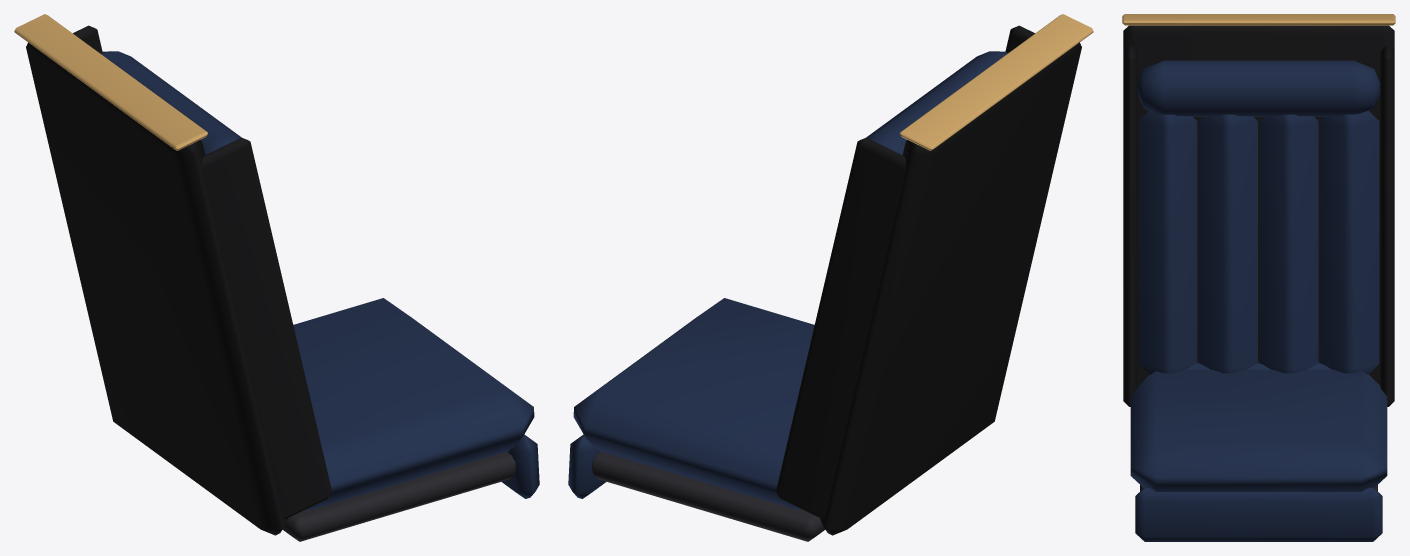
File: seat_giant.glb
The picture shows the model from 3 angles, left to right: view 1: azimuth 30°, elevation 25°; view 2: azimuth 150°, elevation 25°; view 3: azimuth 270°, elevation 25°; orthographic projection. The views are drawn at different scales.
Parts seen in each view (by area): view 1: Mesh_Shell, Mesh_Cushion, Mesh_WingR, Mesh_ShellTrim, Mesh_Pan, Mesh_Headrest, Mesh_Apron; view 2: Mesh_Shell, Mesh_Cushion, Mesh_WingL, Mesh_ShellTrim, Mesh_Pan, Mesh_Headrest, Mesh_Apron; view 3: Mesh_Cushion, Mesh_Channel0, Mesh_Channel3, Mesh_Channel1, Mesh_Channel2, Mesh_Shell, Mesh_Headrest, Mesh_Apron, Mesh_WingL, Mesh_WingR, Mesh_ShellTrim, Mesh_Lumbar.
Part boxes in pixels (x1,y1,x2,y2): Mesh_Shell: (26, 42, 287, 535); Mesh_Cushion: (293, 298, 534, 509); Mesh_WingR: (201, 137, 331, 518); Mesh_ShellTrim: (14, 14, 208, 150); Mesh_Pan: (282, 451, 515, 541); Mesh_Headrest: (99, 51, 241, 154); Mesh_Apron: (501, 434, 539, 498); Mesh_Shell: (820, 42, 1081, 535); Mesh_Cushion: (573, 298, 814, 509); Mesh_WingL: (776, 137, 906, 518); Mesh_ShellTrim: (899, 14, 1093, 150); Mesh_Pan: (592, 451, 825, 541); Mesh_Headrest: (866, 51, 1008, 154); Mesh_Apron: (568, 434, 606, 498); Mesh_Cushion: (1130, 369, 1387, 491); Mesh_Channel0: (1320, 110, 1379, 374); Mesh_Channel3: (1138, 110, 1197, 374); Mesh_Channel1: (1260, 114, 1318, 373); Mesh_Channel2: (1199, 114, 1257, 373); Mesh_Shell: (1123, 25, 1394, 384); Mesh_Headrest: (1137, 60, 1380, 116); Mesh_Apron: (1135, 487, 1382, 541); Mesh_WingL: (1380, 44, 1394, 406); Mesh_WingR: (1123, 44, 1137, 406); Mesh_ShellTrim: (1122, 14, 1395, 25); Mesh_Lumbar: (1137, 362, 1380, 386).
Size of the model in its own units: 0.7718 by 0.8907 by 0.575.
